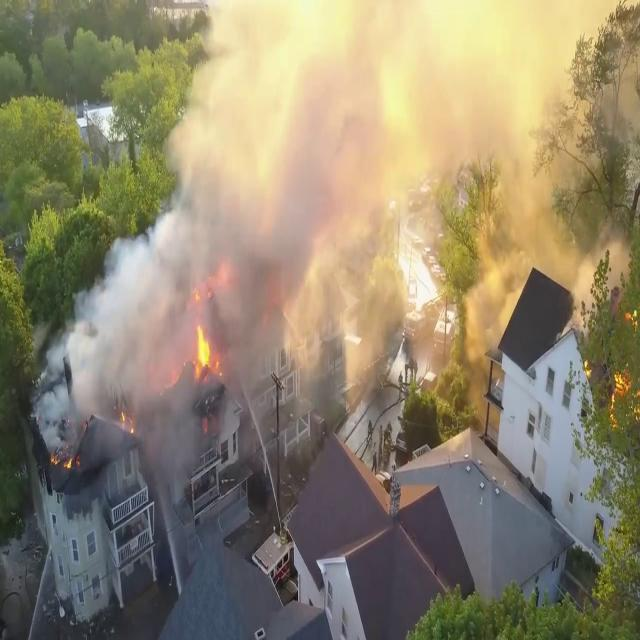Fire: (192, 310, 218, 382)
Smoke: (53, 0, 620, 436)
